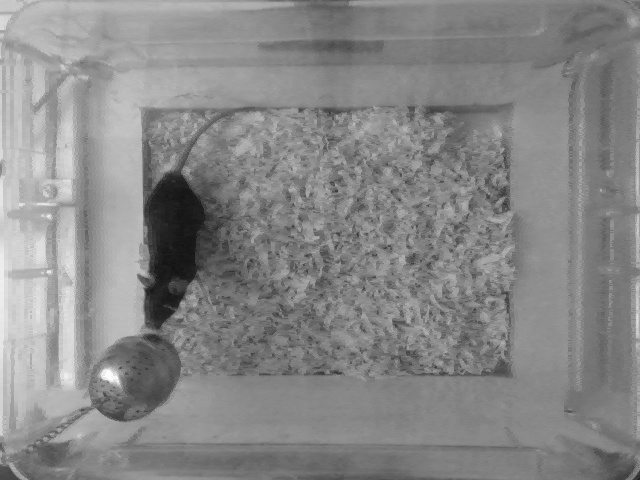mice: (135, 104, 259, 333)
